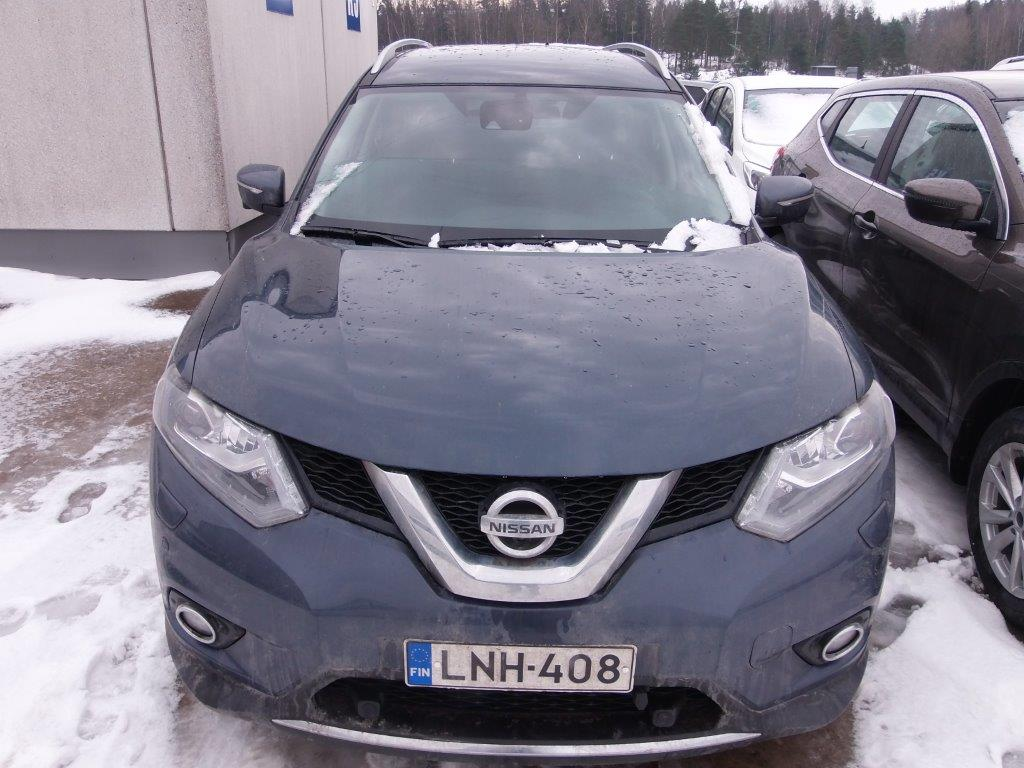license: (404, 639, 634, 699)
